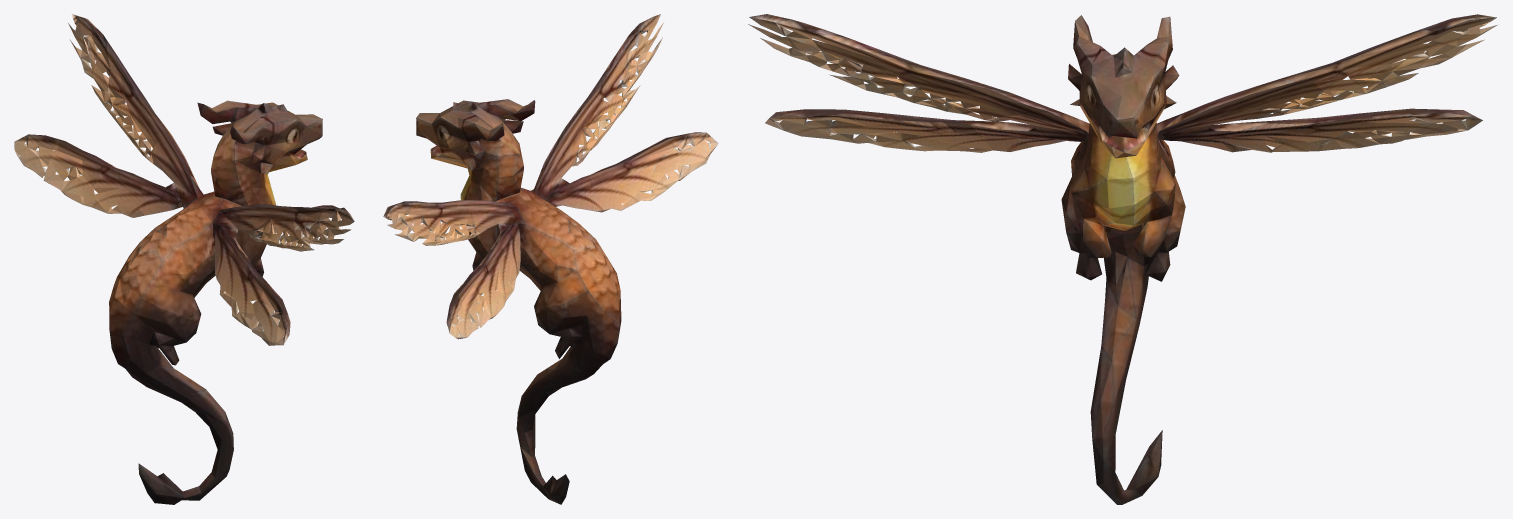
File: foe_fireflyBeetle.glb
3 renders of one model, left to right at view 1: azimuth 30°, elevation 25°; view 2: azimuth 150°, elevation 25°; view 3: azimuth 270°, elevation 25°, orthographic. The views are drawn at different scales.
Visible parts, largest first — view 1: tripo_node_46ea1fdd-99d5-466b-adc8-ed0a50913ea8.001; view 2: tripo_node_46ea1fdd-99d5-466b-adc8-ed0a50913ea8.001; view 3: tripo_node_46ea1fdd-99d5-466b-adc8-ed0a50913ea8.001.
Boxes of the visible parts, <box> form: tripo_node_46ea1fdd-99d5-466b-adc8-ed0a50913ea8.001: <box>14,14,354,504</box>; tripo_node_46ea1fdd-99d5-466b-adc8-ed0a50913ea8.001: <box>383,14,718,504</box>; tripo_node_46ea1fdd-99d5-466b-adc8-ed0a50913ea8.001: <box>748,14,1497,504</box>.
Bounding box in the file's own units: 0.4189 × 0.7382 × 0.9884.
1 material, 1 textured.
